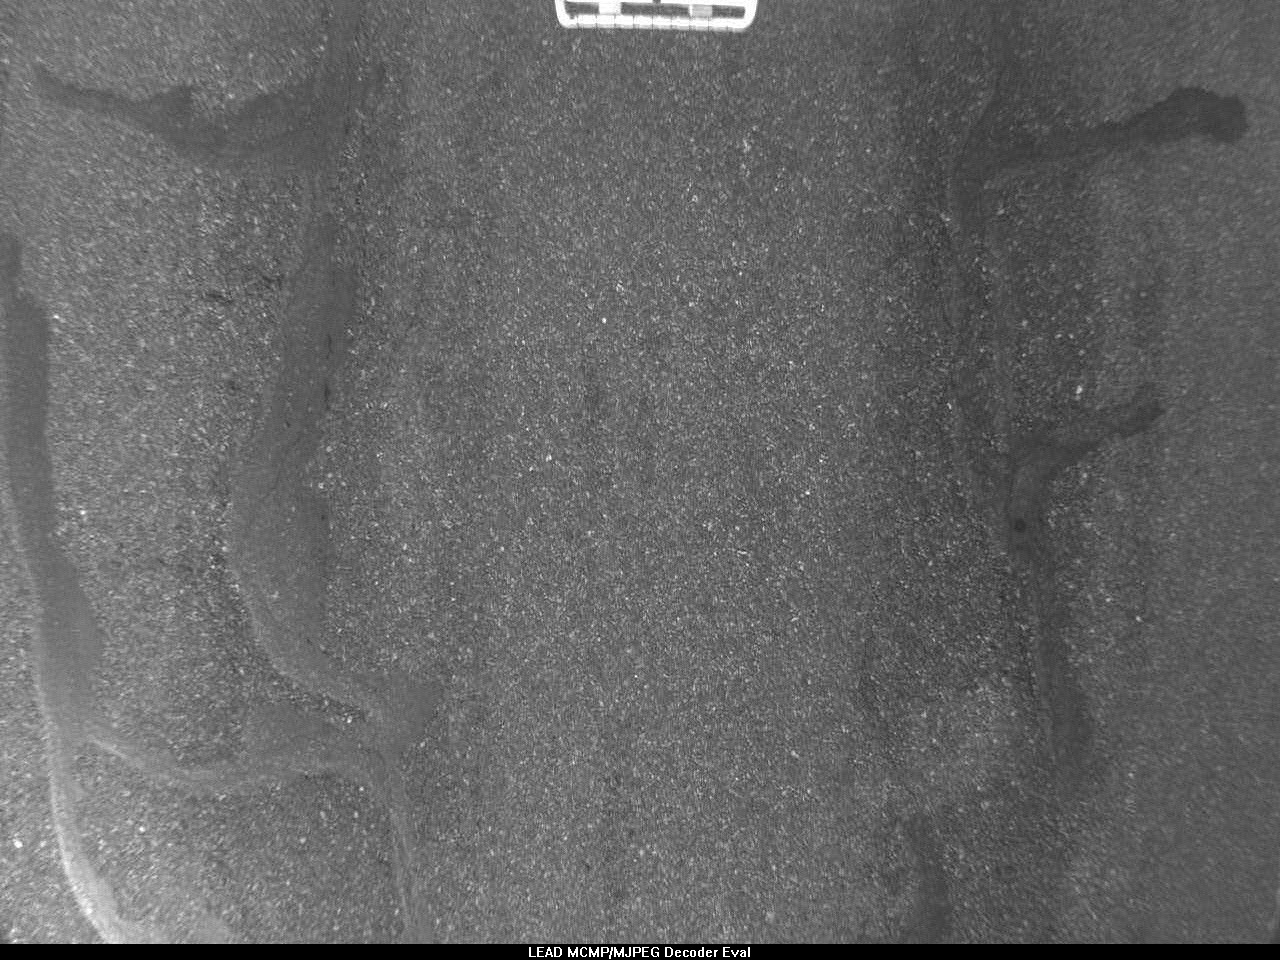sealed: (4, 56, 452, 944)
